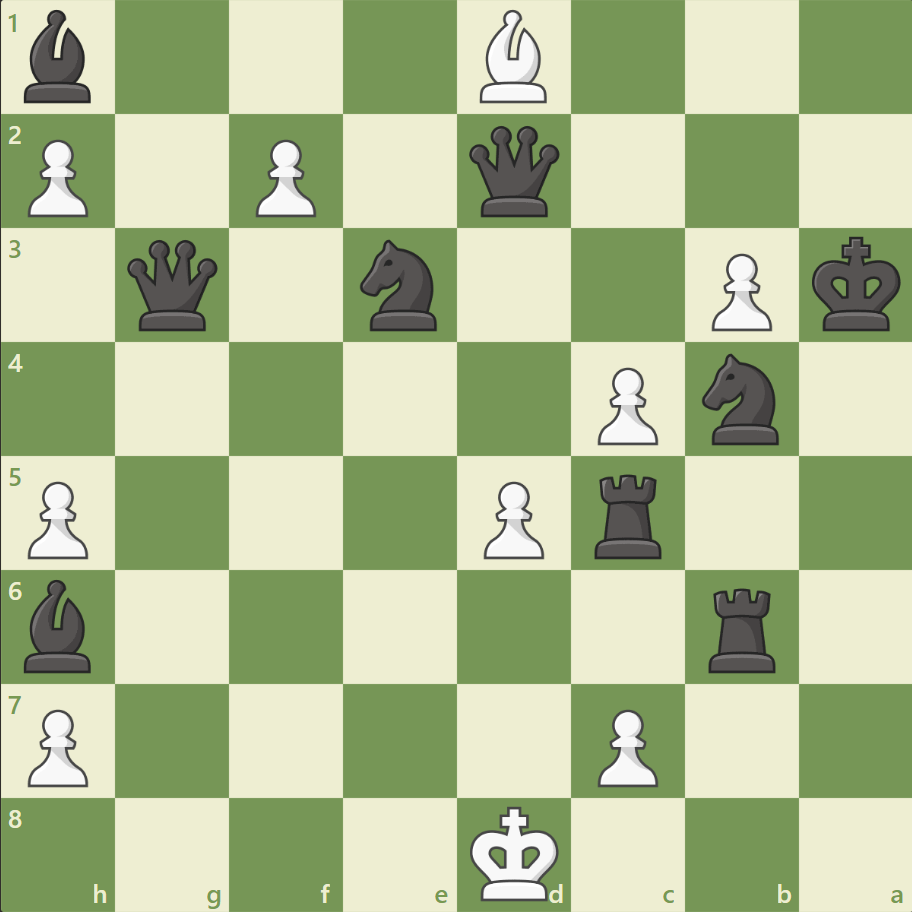B: (471, 6, 555, 109)
K: (465, 798, 565, 906)
P: (20, 700, 95, 791), (474, 473, 549, 564), (20, 473, 95, 564), (701, 246, 776, 337), (247, 132, 322, 223), (20, 132, 95, 223), (588, 700, 662, 791), (588, 359, 662, 450)
b: (17, 6, 101, 109), (17, 574, 101, 676)
k: (806, 231, 906, 339)
n: (351, 234, 449, 337), (692, 348, 789, 450)
q: (464, 122, 563, 222), (124, 236, 223, 335)
r: (700, 579, 783, 676), (587, 466, 670, 563)
